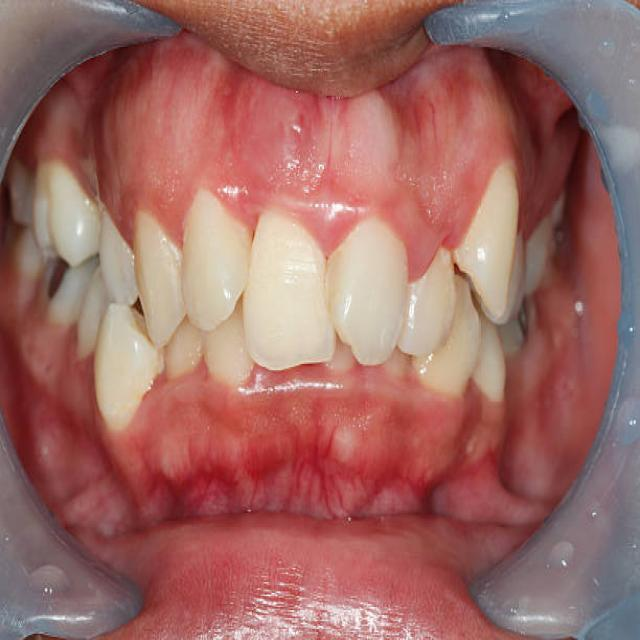swelling: (92, 73, 228, 188), (424, 59, 516, 160), (335, 98, 406, 195), (286, 194, 364, 262), (242, 361, 314, 411)
